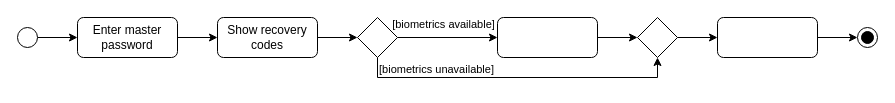
Some shapes in this 895 by 103 pixel diagram are drawn without their labels. Here are the shapes that lost their labels. From the top down, the centre of each, then its label:
At (547,37): "Enable biometrics".
At (767,37): "Finish".
